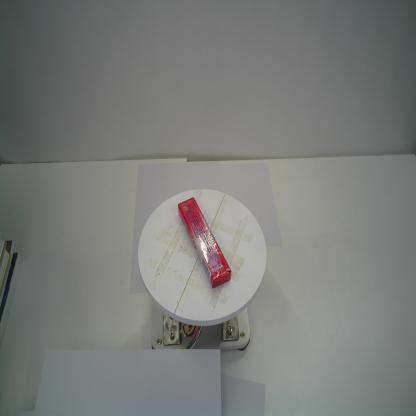Candy: (178, 198, 233, 288)
